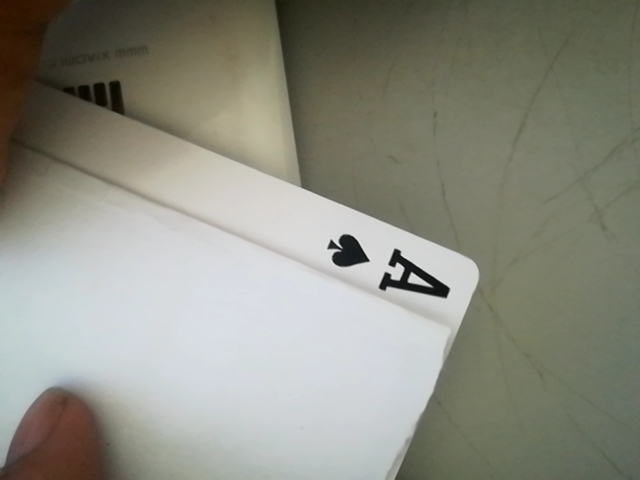ht a: (312, 225, 470, 314)
